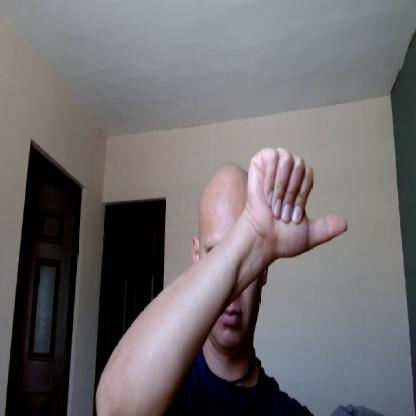A: (246, 147, 350, 260)
